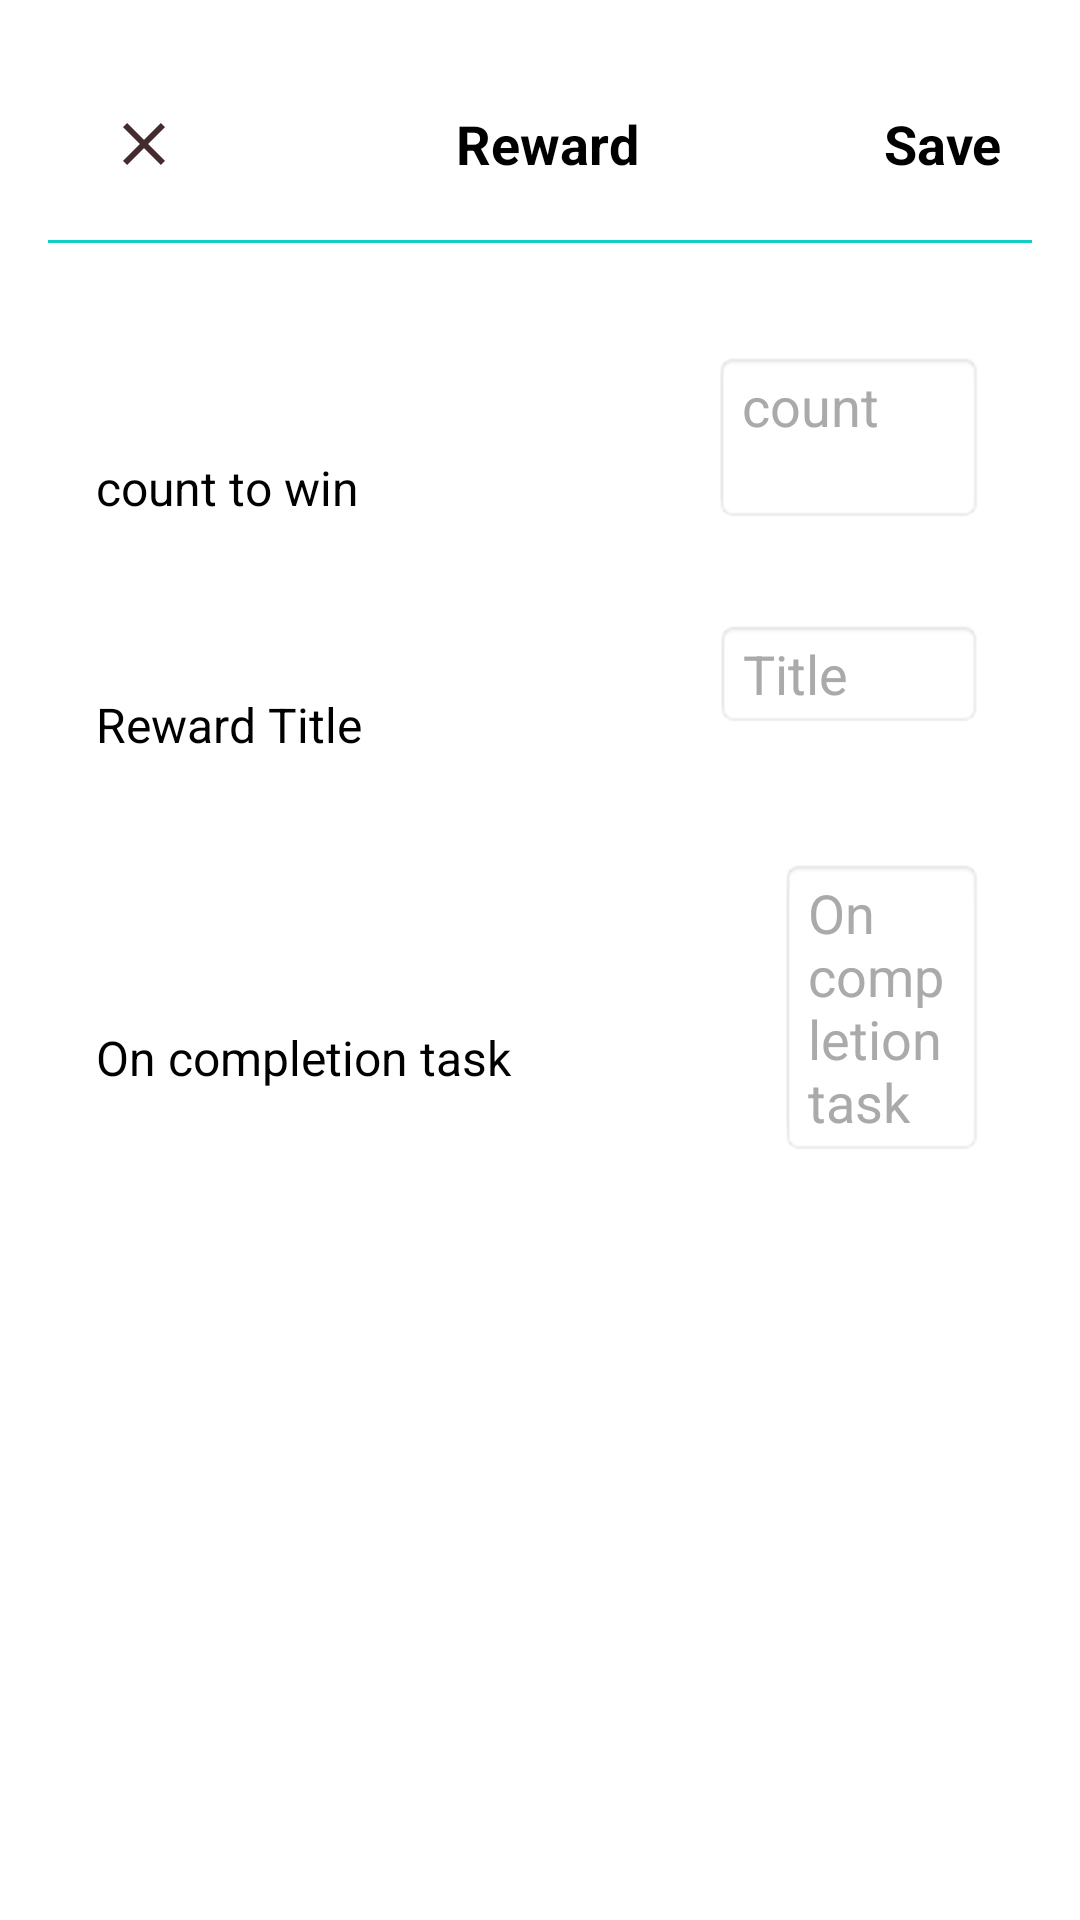

Screen size 1080 × 1920. Icon name, then its center in pixels as (x,y):
Close Dialog: (144,144)
